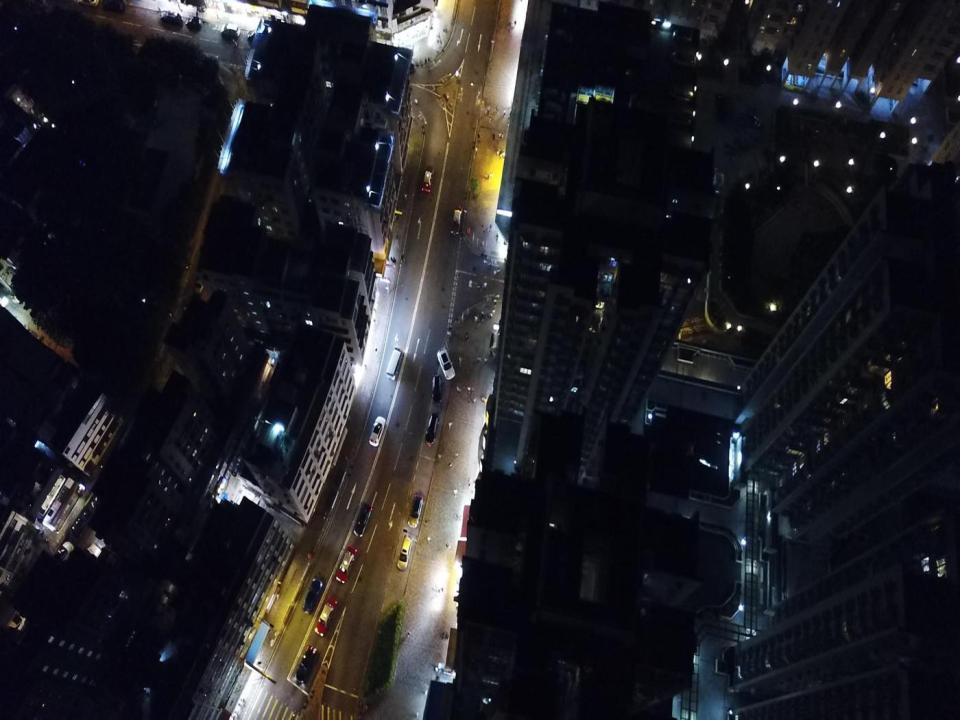bus: (386, 346, 404, 381)
car: (334, 544, 359, 584), (314, 596, 337, 637), (295, 644, 317, 683), (301, 577, 324, 614), (5, 612, 28, 644), (69, 510, 91, 542), (353, 502, 373, 537), (396, 534, 414, 572), (436, 347, 456, 381), (53, 540, 75, 570), (407, 493, 424, 529), (368, 415, 386, 448), (424, 412, 440, 446), (450, 205, 464, 236), (420, 165, 435, 193), (159, 9, 182, 26), (431, 374, 443, 404), (102, 0, 126, 14), (220, 23, 241, 38), (247, 29, 266, 43), (185, 17, 204, 30), (76, 0, 98, 7)
